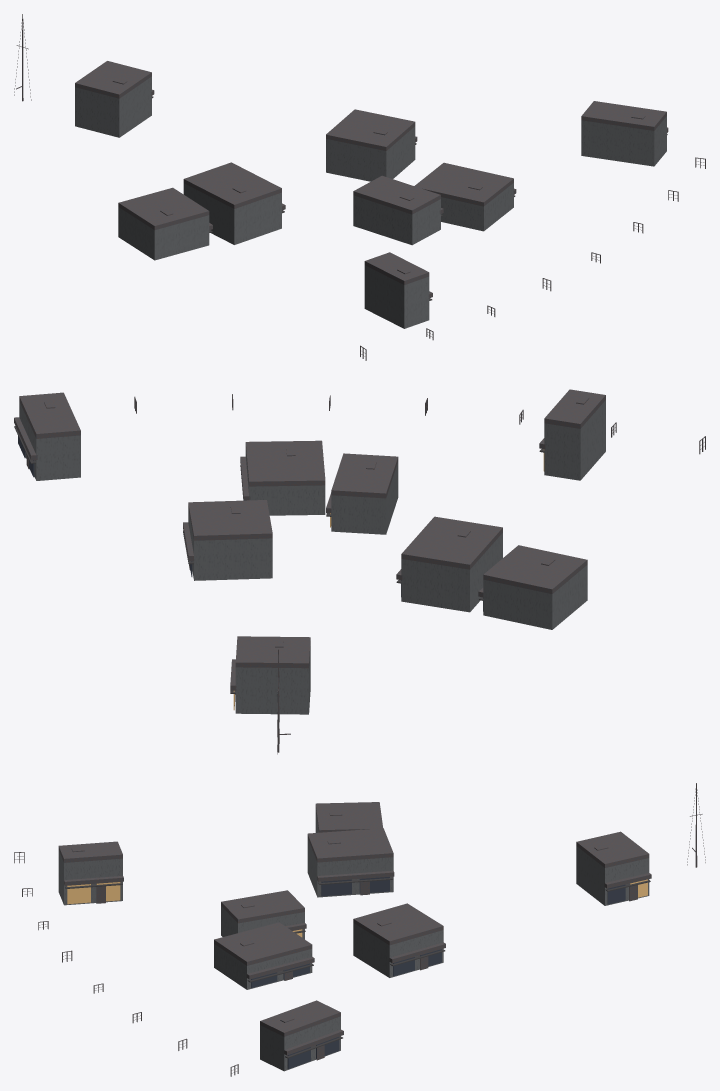
Rendered from SM_City_AlHilal_6.fbx.
The picture shows the model from 3 angles, top to bottom: view 1: azimuth 30°, elevation 25°; view 2: azimuth 150°, elevation 25°; view 3: azimuth 270°, elevation 25°; orthographic projection. The views are drawn at different scales.
Parts seen in each view (by area): view 1: SM_City_AlHilal_6; view 2: SM_City_AlHilal_6; view 3: SM_City_AlHilal_6.
Part boxes in pixels (x1,y1,x2,y2): SM_City_AlHilal_6: (14,14,705,360); SM_City_AlHilal_6: (14,389,705,754); SM_City_AlHilal_6: (14,783,705,1076).
Size of the model in its own units: 6455 by 1047 by 7813.
5 materials, 5 textured.
